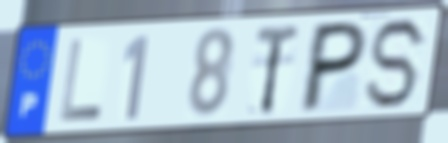1: (121, 32, 152, 123)
8: (184, 25, 237, 122)
L: (56, 36, 106, 126)
P: (295, 19, 372, 117)
S: (363, 14, 432, 112)
T: (253, 21, 302, 118)
